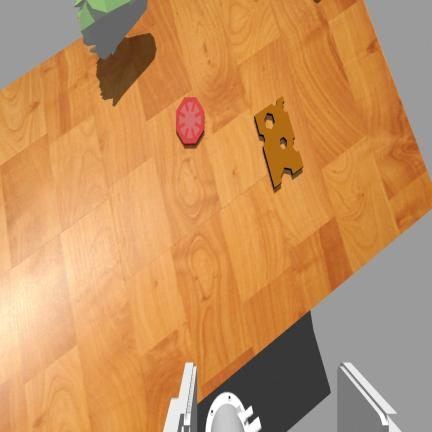cheese: (254, 97, 303, 187)
lettuce: (75, 0, 147, 58)
sliced_tomato: (176, 98, 204, 144)
